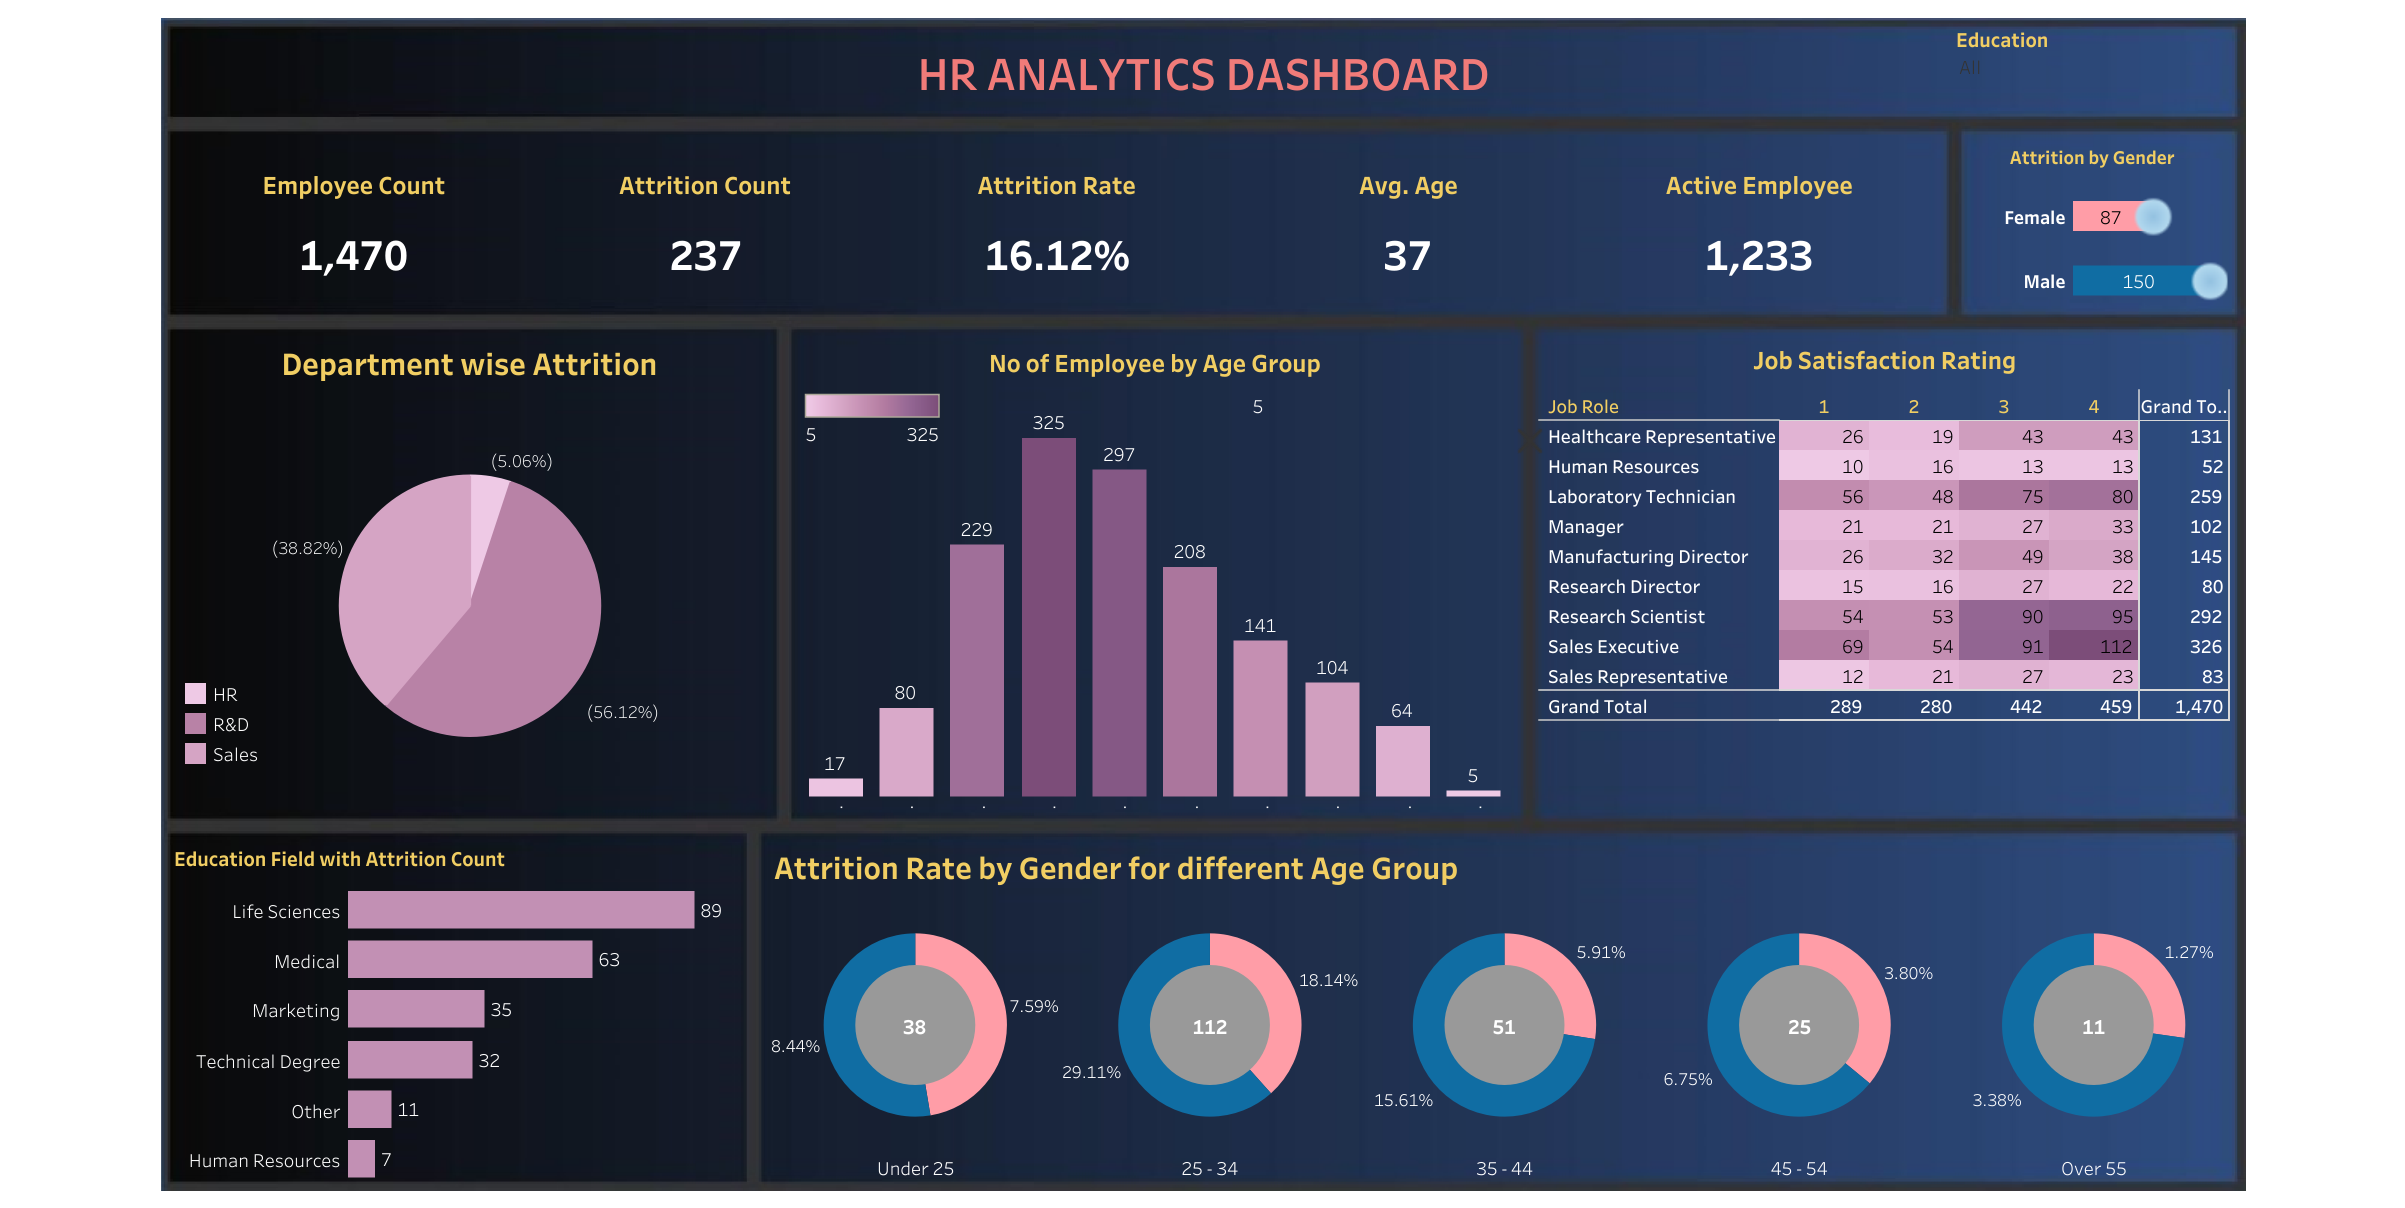

This screenshot's page, from the dashboard's own definition file:
{"tool":"tableau","page":{"name":"Dashboard 1","canvas":[1604,806],"ordinal":0},"visuals":[{"type":"image","param":"Image/HR background.pptx.jpg","box":[8,8,1588,790]},{"type":"filter","title":"KPI","param":"[federated.0716yt80pkklde1bvfqdz1sar2gw].[none:Education:nk]","box":[1304,15,190,63]},{"type":"text","box":[116,19,1373,57]},{"type":"worksheet","title":" Attrition by Gender","mark":"Bar","rows":["Gender"],"cols":["Calculation_197314015854493696","Calculation_197314015854493696"],"box":[1302,89,183,119]},{"type":"worksheet","title":"KPI","mark":"Automatic","box":[119,94,1171,110]},{"type":"worksheet","title":"Department wise Attrition","mark":"Pie","box":[113,222,400,320]},{"type":"worksheet","title":"Job Satisfaction Rating","mark":"Square","rows":["Job Role"],"cols":["Job Satisfaction"],"box":[1026,222,466,327]},{"type":"worksheet","title":"No of Employee by Age Group","mark":"Automatic","rows":["Employee Count"],"cols":["Age (bin)"],"box":[533,224,474,317]},{"type":"legend","title":"No of Employee by Age Group","param":"[federated.0716yt80pkklde1bvfqdz1sar2gw].[sum:Employee Count:qk]","box":[533,259,98,44]},{"type":"parameter","param":"[Parameters].[Parameter 1]","box":[833,261,168,39]},{"type":"dashboard-object","box":[1008,282,24,24]},{"type":"legend","title":"Department wise Attrition","param":"[federated.0716yt80pkklde1bvfqdz1sar2gw].[none:Department:nk]","box":[120,452,140,92]},{"type":"worksheet","title":"Education Field with Attrition Count","mark":"Automatic","rows":["Education Field"],"cols":["Calculation_197314015854493696"],"box":[112,556,387,233]},{"type":"worksheet","title":"Attrition Rate by Gender for different Age Group ","mark":"Pie","rows":["Calculation_610237807072960513","Calculation_610237807072960513"],"cols":["CF_age band"],"box":[512,558,982,229]}]}

Visuals, with their boxes in screenshot pixels (x1, y1, x2, y2), scaled from the page's 1604x806 canvas onto the 2405x1208 screenshot:
image: detection(12, 12, 2393, 1196)
"KPI" filter: detection(1955, 22, 2240, 117)
text: detection(174, 28, 2233, 114)
" Attrition by Gender" worksheet (Bar marks): detection(1952, 133, 2227, 312)
"KPI" worksheet: detection(178, 141, 1934, 306)
"Department wise Attrition" worksheet (Pie marks): detection(169, 333, 769, 812)
"Job Satisfaction Rating" worksheet (Square marks): detection(1538, 333, 2237, 823)
"No of Employee by Age Group" worksheet: detection(799, 336, 1510, 811)
"No of Employee by Age Group" legend: detection(799, 388, 946, 454)
parameter: detection(1249, 391, 1501, 450)
dashboard-object: detection(1511, 423, 1547, 459)
"Department wise Attrition" legend: detection(180, 677, 390, 815)
"Education Field with Attrition Count" worksheet: detection(168, 833, 748, 1183)
"Attrition Rate by Gender for different Age Group " worksheet (Pie marks): detection(768, 836, 2240, 1180)
